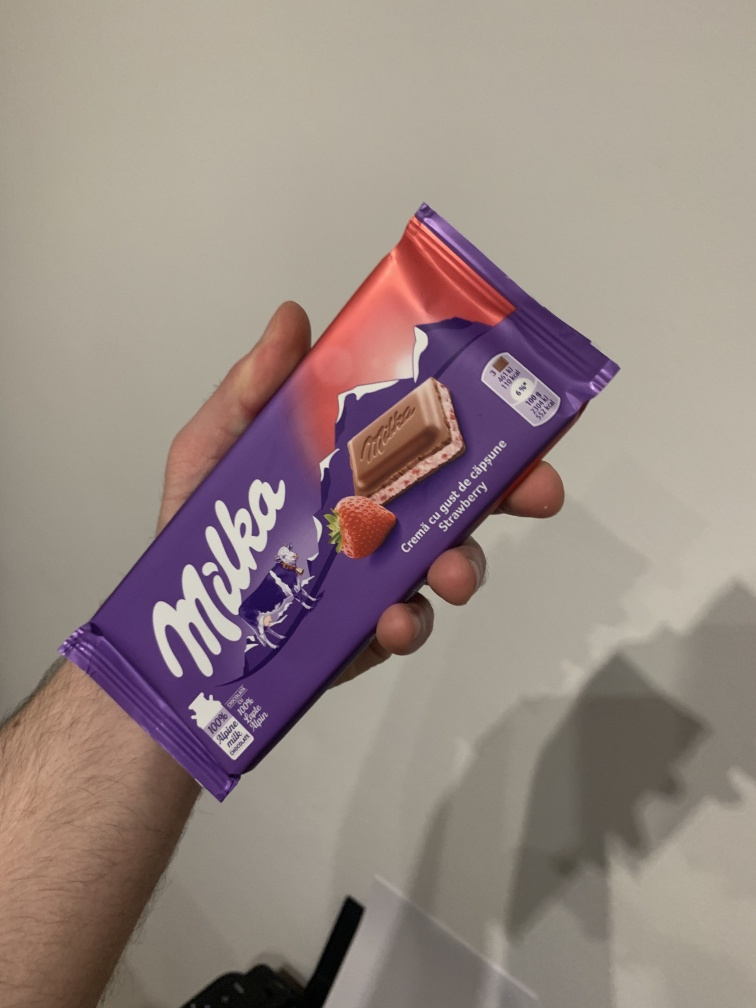milka: (61, 202, 619, 807)
